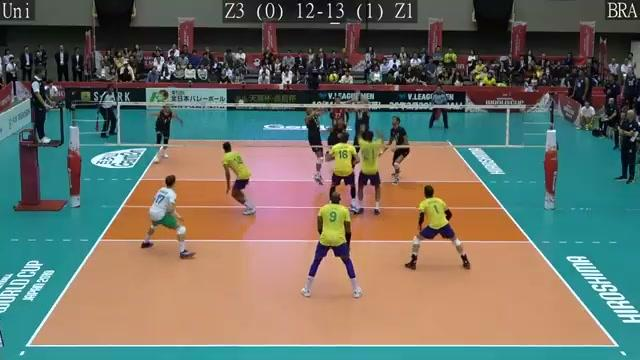ball: (328, 73, 340, 84)
